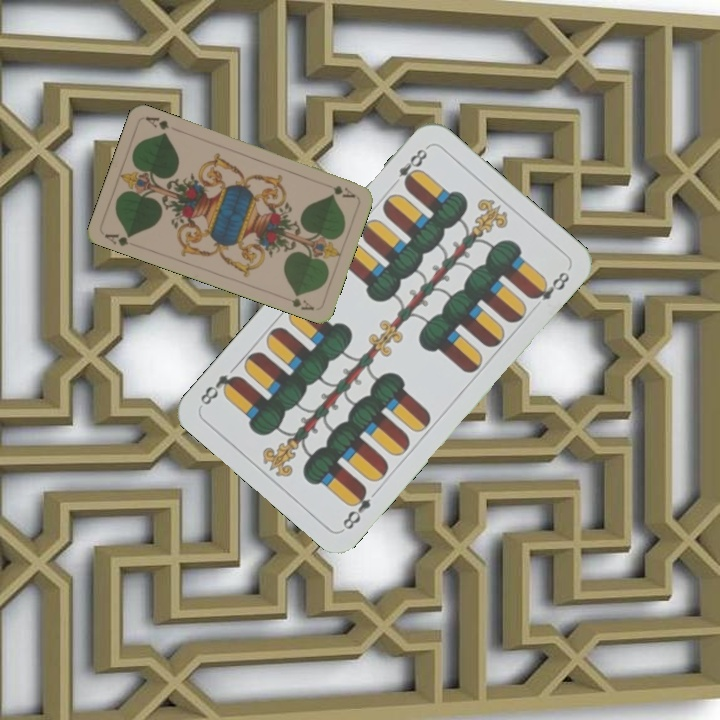E8: (338, 482, 374, 533), (394, 143, 431, 190)
GA: (320, 179, 358, 200), (100, 230, 135, 249)
